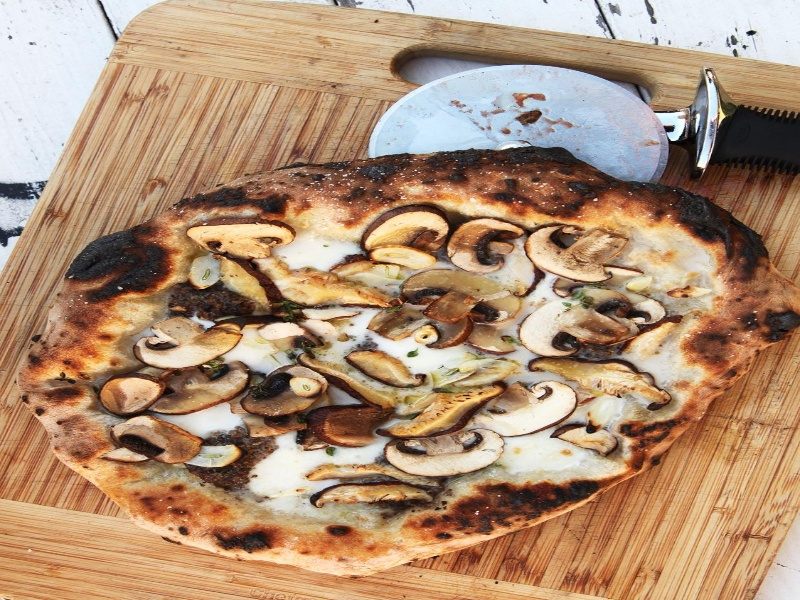champignon: (512, 285, 672, 354), (471, 378, 585, 442), (378, 425, 507, 480), (520, 222, 632, 285), (133, 314, 246, 373), (443, 206, 528, 278), (188, 219, 295, 262)
